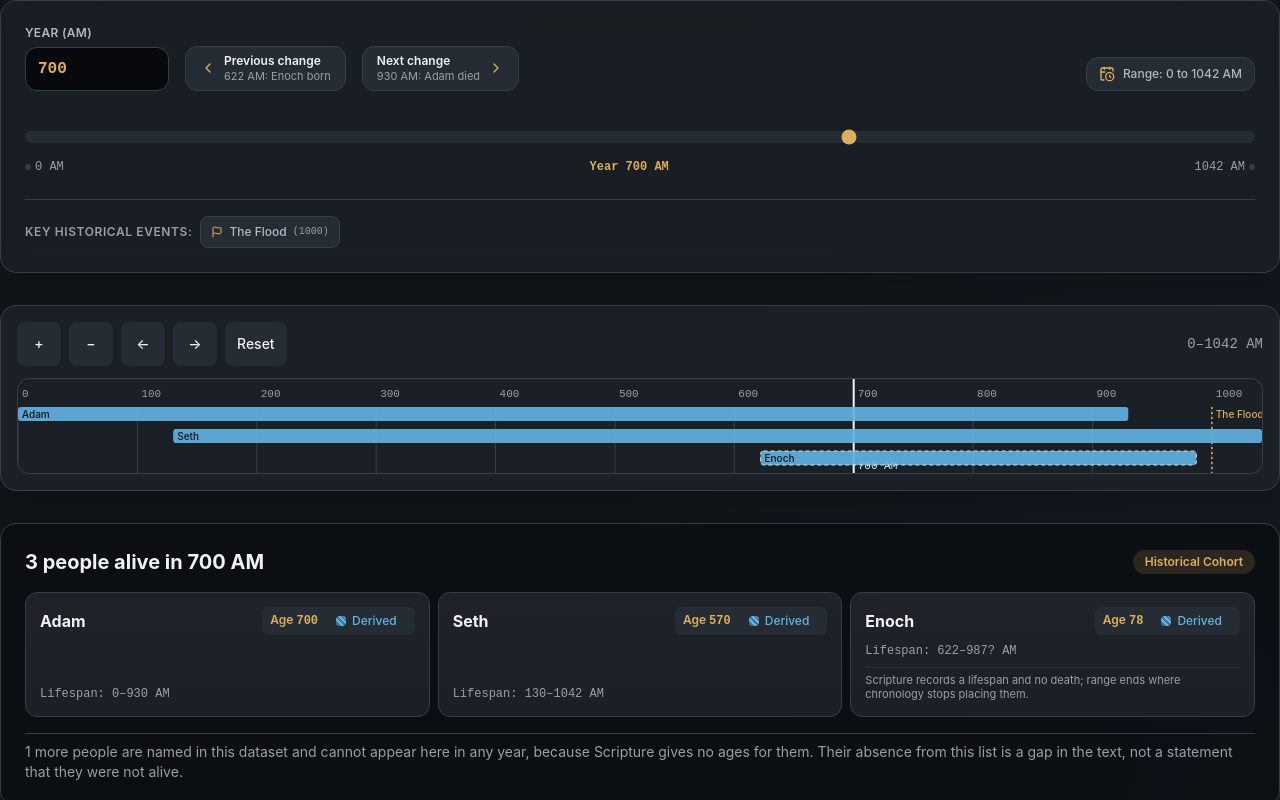
Scenario: YearExplorer › keeps the slider and the number box on the same year
The width and height of the screenshot is (1280, 800).
Replace the text in the number field labelled "Year (AM)" with "800" at [97, 69], box [25, 47, 169, 91]
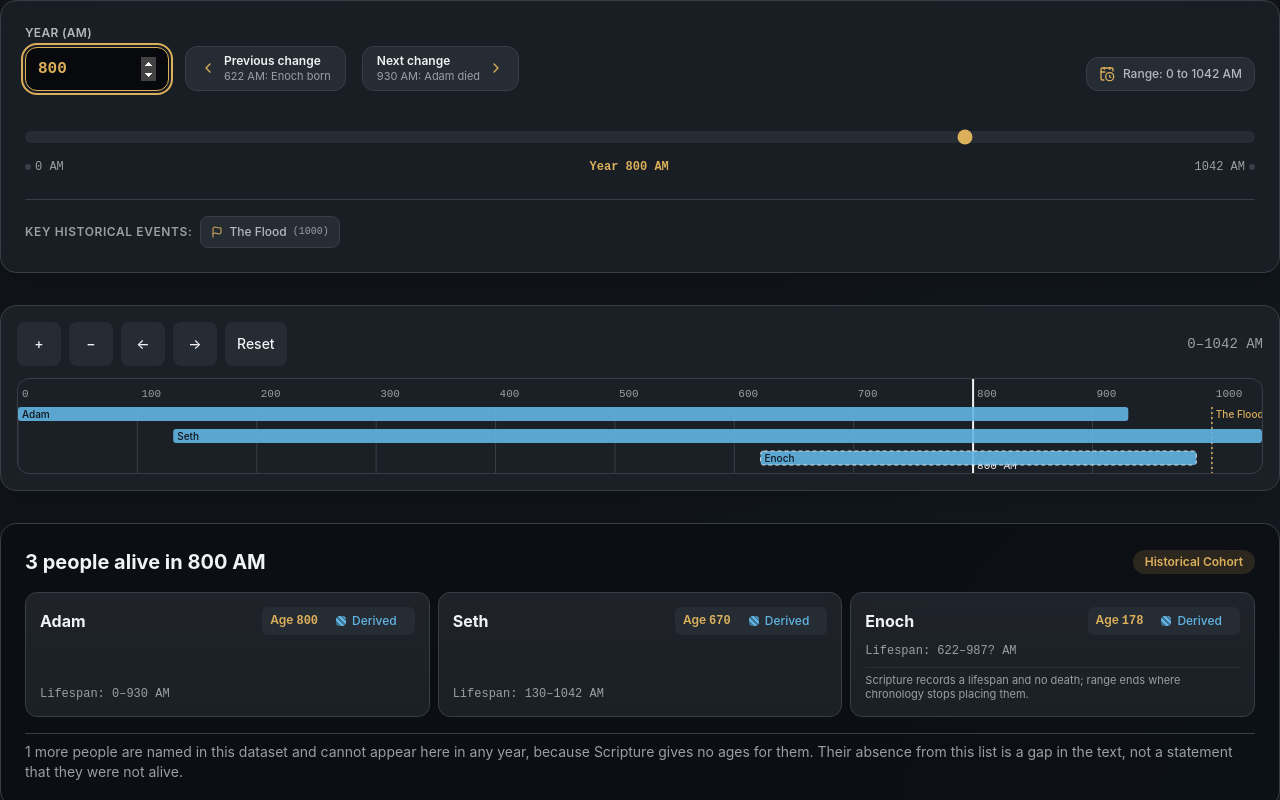
Result: the slider named "Year, as a slider" holds "800" at [25, 131, 1255, 143]
